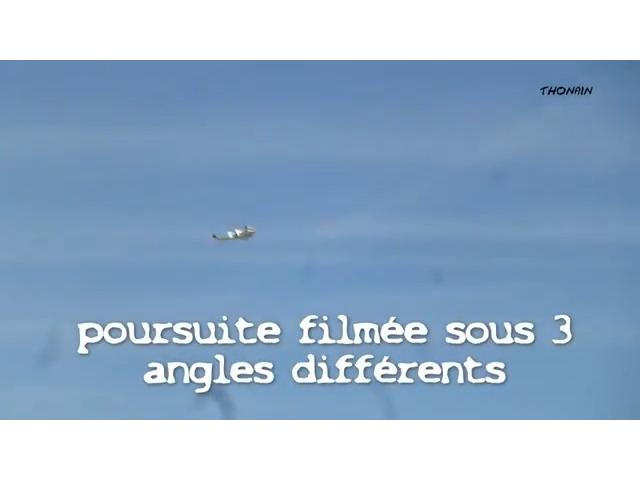Anti-Drone: (212, 228, 256, 242)
